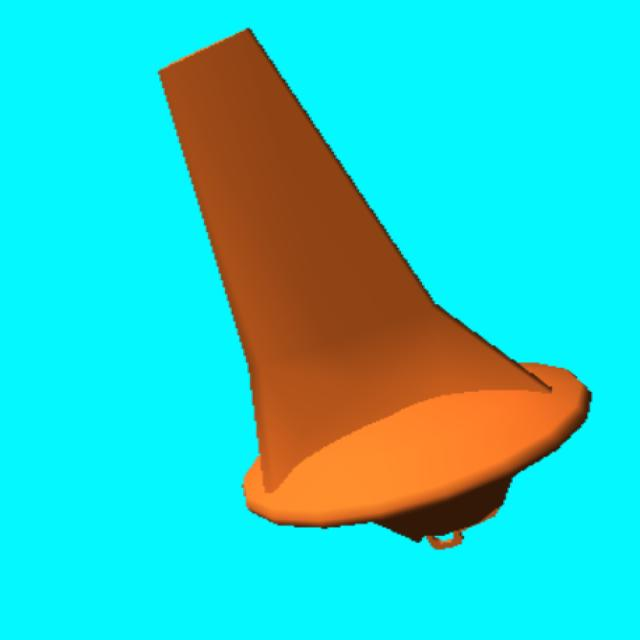OrangeBuoy: (160, 30, 590, 539)
